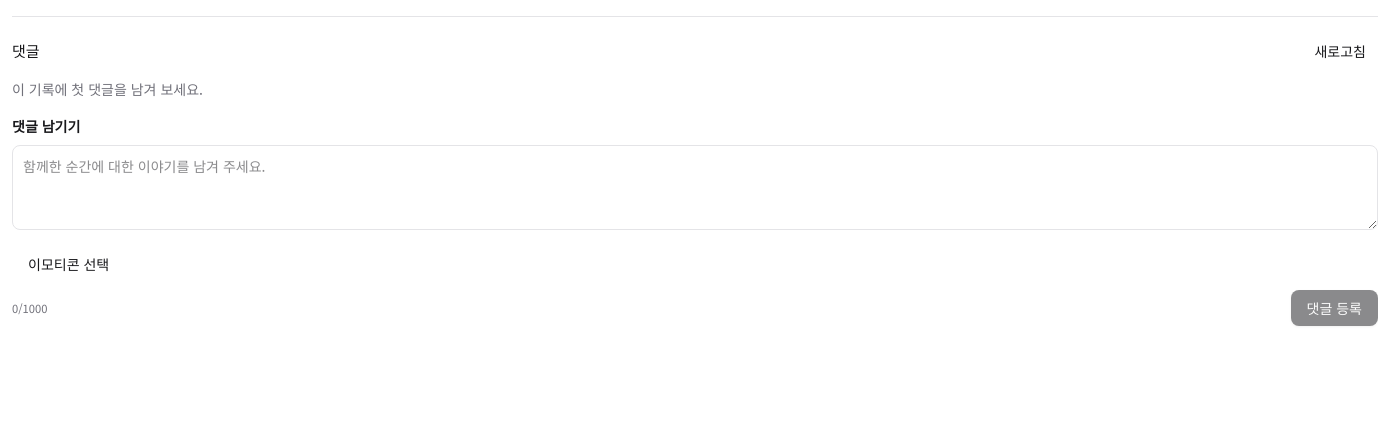
Scenario: keeps failed input and retries with the same UUID before clearing after success
Expected: the text "이 기록에 첫 댓글을 남겨 보세요." is shown, top-left (12, 79), bottom-right (203, 99)
Type "좋았어요" into the text box labelled "댓글 남기기" at (695, 188), box top-left (12, 145), bottom-right (1378, 230)
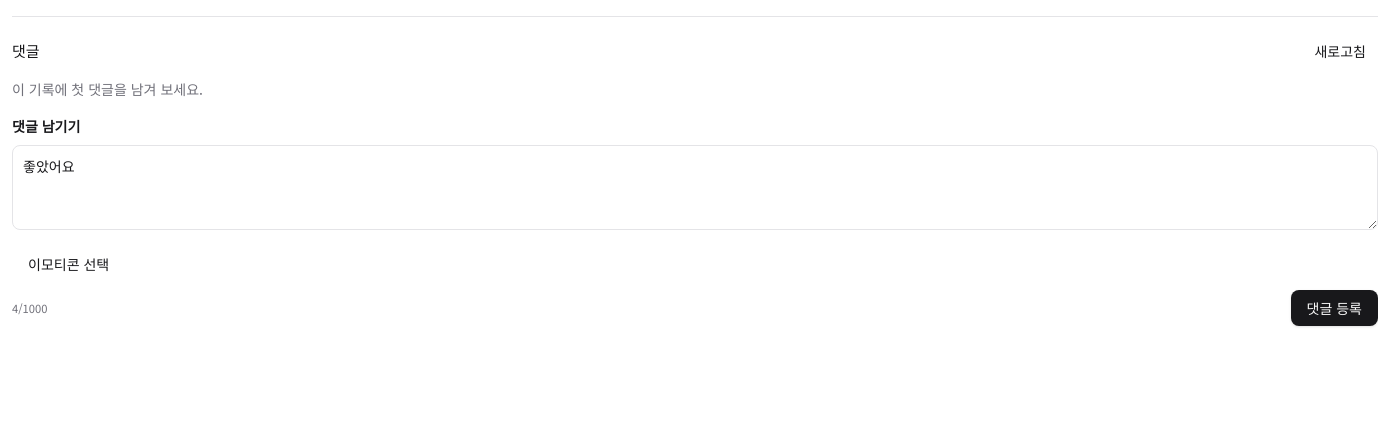
Click the button "댓글 등록" at (1334, 308), box top-left (1290, 290), bottom-right (1378, 326)
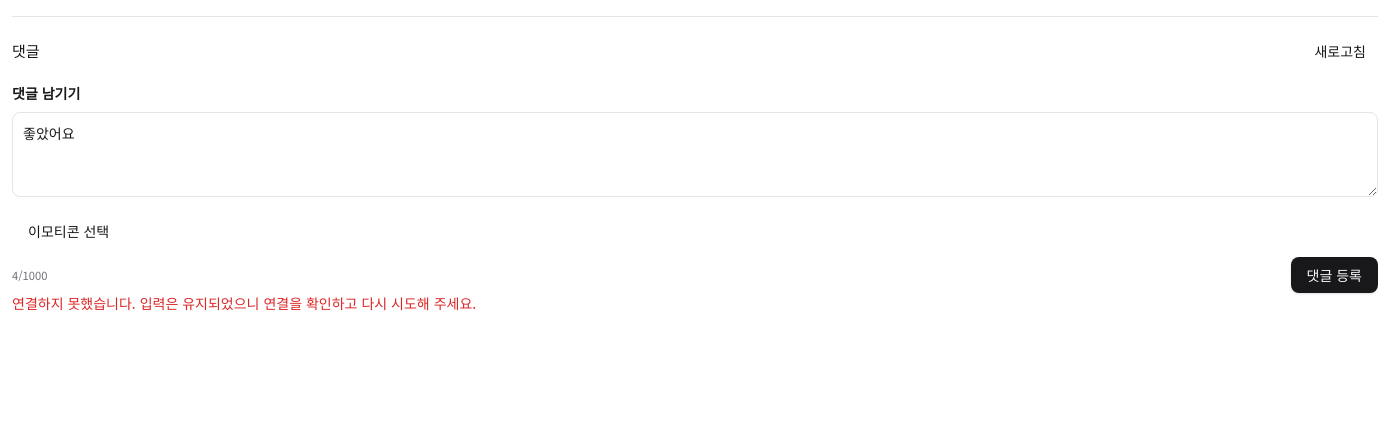
Now the message "연결하지 못했습니다. 입력은 유지되었으니 연결을 확인하고 다시 시도해 주세요." is shown, box top-left (12, 293), bottom-right (476, 313)
Click the button "댓글 등록" at (1334, 275), box top-left (1290, 257), bottom-right (1378, 293)
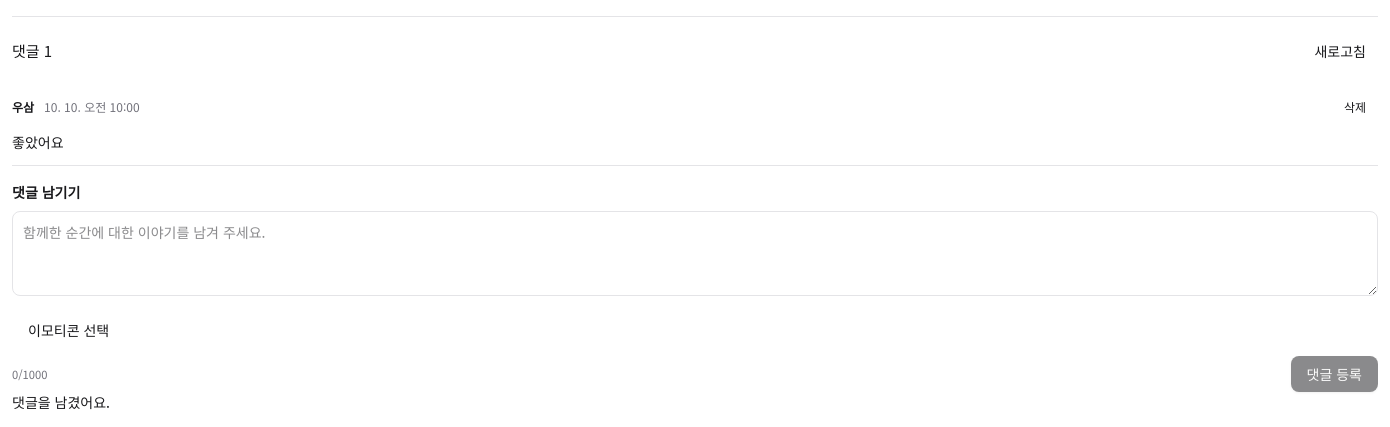
Now the text "우삼" is shown, box top-left (12, 98), bottom-right (34, 116)
Now the text box labelled "댓글 남기기" is empty, box top-left (12, 211), bottom-right (1378, 296)
